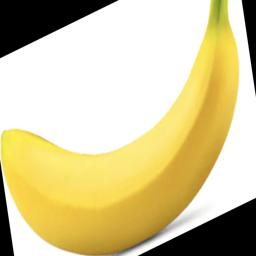Banana Fresh: (4, 15, 251, 256)
